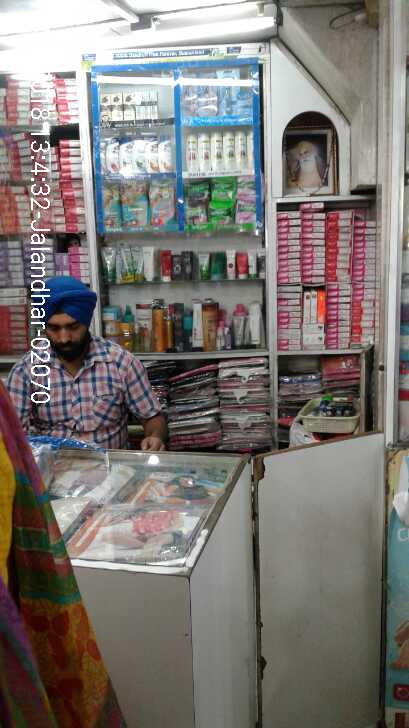venus: (196, 67, 217, 114), (221, 67, 236, 116), (236, 93, 251, 116)
